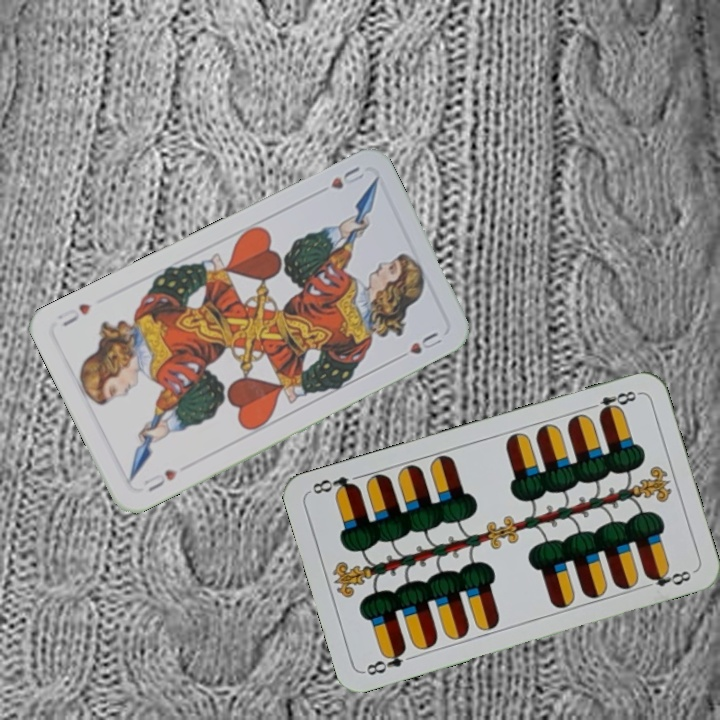E8: (584, 387, 642, 418), (361, 643, 409, 678)
HU: (139, 465, 180, 495), (327, 162, 367, 192)
